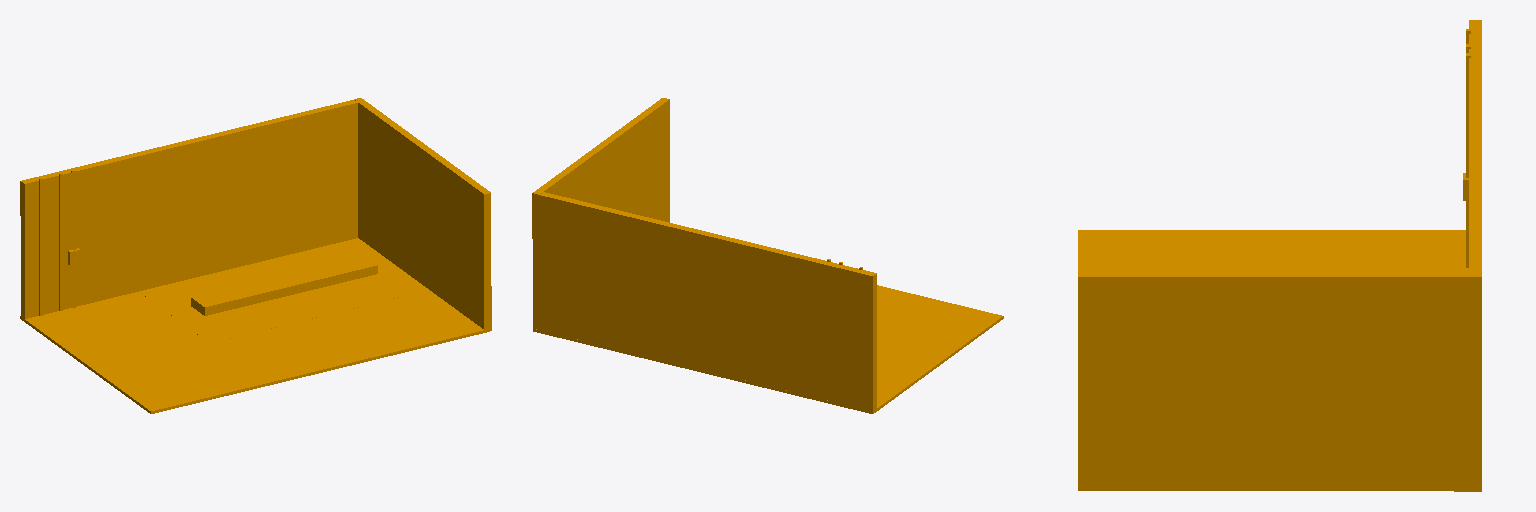
robot.urdf — env_model:
<?xml version="1.0" ?>
<robot name="env_model">
  <link name="env_link">
    <visual>
      <geometry>
        <mesh filename="env.obj" scale="0.02 0.02 0.02"/>
      </geometry>
      <origin xyz="0 0 0.1" rpy="1.57 0 0"/>
    </visual>
  </link>
</robot>

--- Render facts (derived) ---
Views: 3 orthographic renders of the robot side by side, from view 1: azimuth 30°, elevation 25°; view 2: azimuth 150°, elevation 25°; view 3: azimuth 270°, elevation 25°.
Model env_model with 1 links and 0 joints (none), rooted at env_link, posed every joint at zero.
Links seen in each view (by area): view 1: env_link; view 2: env_link; view 3: env_link.
Boxes of the visible links, x1,y1,x2,y2 form: env_link: (20, 98, 491, 413); env_link: (532, 98, 1003, 413); env_link: (1078, 20, 1481, 491).
Size in the robot's own frame: 15.09 by 10.01 by 5.92 metres.
Meshes: 1 distinct files referenced, 1 mesh visuals loaded (1 OBJ).